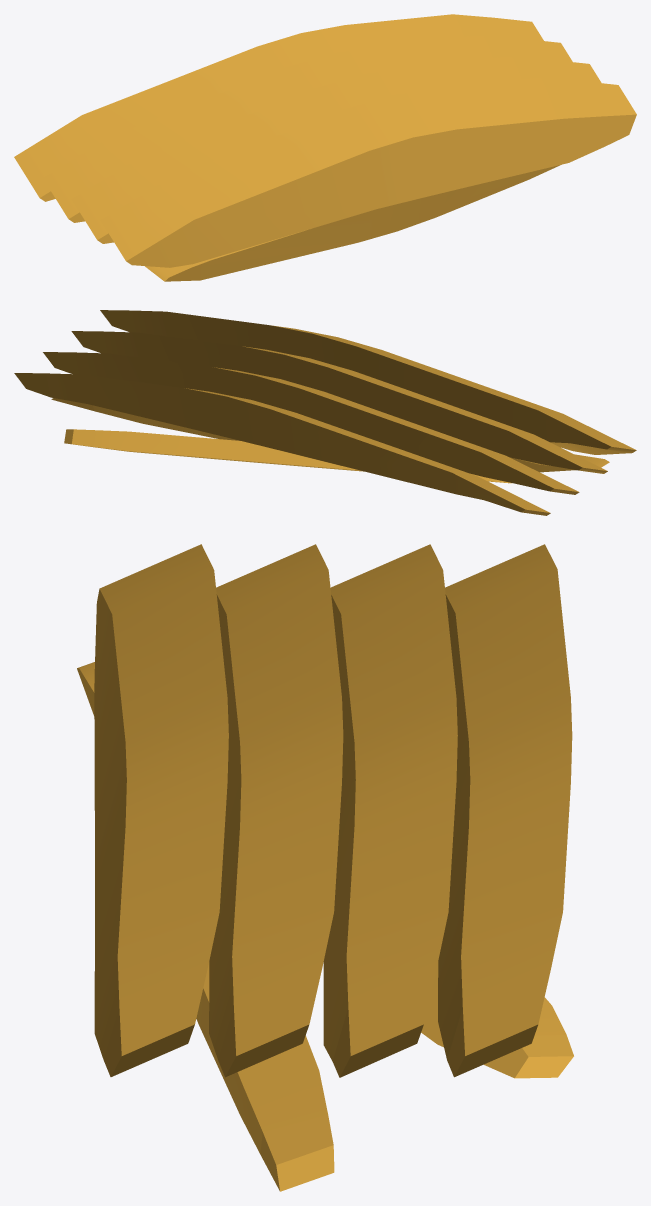
Rendered from fries.fbx.
3 views of the same model, one above another, from view 1: azimuth 30°, elevation 25°; view 2: azimuth 150°, elevation 25°; view 3: azimuth 270°, elevation 25° (orthographic). The views are drawn at different scales.
Parts seen in each view (by area): view 1: potato_slices_fried; view 2: potato_slices_fried; view 3: potato_slices_fried.
Boxes of the visible parts, x1,y1,x2,y2 form: potato_slices_fried: (14, 14, 636, 281); potato_slices_fried: (14, 310, 636, 515); potato_slices_fried: (77, 544, 573, 1191).
Size of the model in its own units: 57.91 by 13 by 23.4.
